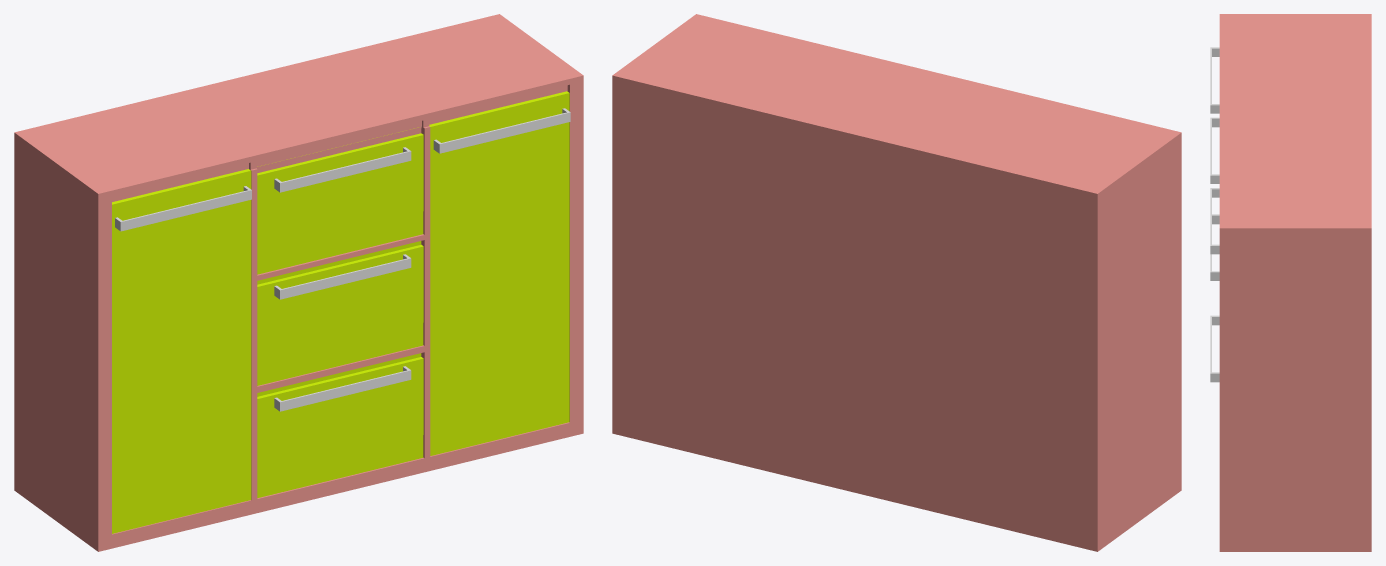
Rendered from A_AH_DrawerChest_003.fbx.
3 renders of one model, left to right at view 1: azimuth 30°, elevation 25°; view 2: azimuth 150°, elevation 25°; view 3: azimuth 270°, elevation 25°, orthographic. The views are drawn at different scales.
Visible parts, largest first — view 1: commode, porte_droite, porte_gauche, Tiroir_3_005, Tiroir_1_001, Tiroir_2_001, Poignet_droite, poignet_centre_002, poignet_centre_003, poignet_centre_001, Poignet_gauche; view 2: commode; view 3: commode, poignet_centre_003, Poignet_droite, poignet_centre_001, Poignet_gauche, poignet_centre_002.
Boxes of the visible parts, left/top/right/bottom form: commode: left=14, top=14, right=583, bottom=551; porte_droite: left=429, top=91, right=569, bottom=455; porte_gauche: left=112, top=169, right=251, bottom=533; Tiroir_3_005: left=256, top=127, right=423, bottom=274; Tiroir_1_001: left=257, top=353, right=423, bottom=498; Tiroir_2_001: left=257, top=241, right=423, bottom=385; Poignet_droite: left=433, top=108, right=570, bottom=153; poignet_centre_002: left=274, top=254, right=411, bottom=299; poignet_centre_003: left=274, top=366, right=411, bottom=411; poignet_centre_001: left=274, top=147, right=411, bottom=192; Poignet_gauche: left=115, top=186, right=251, bottom=231; commode: left=612, top=14, right=1181, bottom=551; commode: left=1219, top=14, right=1371, bottom=551; poignet_centre_003: left=1210, top=315, right=1219, bottom=382; Poignet_droite: left=1210, top=188, right=1219, bottom=254; poignet_centre_001: left=1210, top=117, right=1219, bottom=183; Poignet_gauche: left=1210, top=47, right=1219, bottom=113; poignet_centre_002: left=1210, top=214, right=1219, bottom=280.
Bounding box in the file's own units: 142 × 100 × 45.35.
